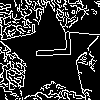L: (26, 29, 72, 60)
